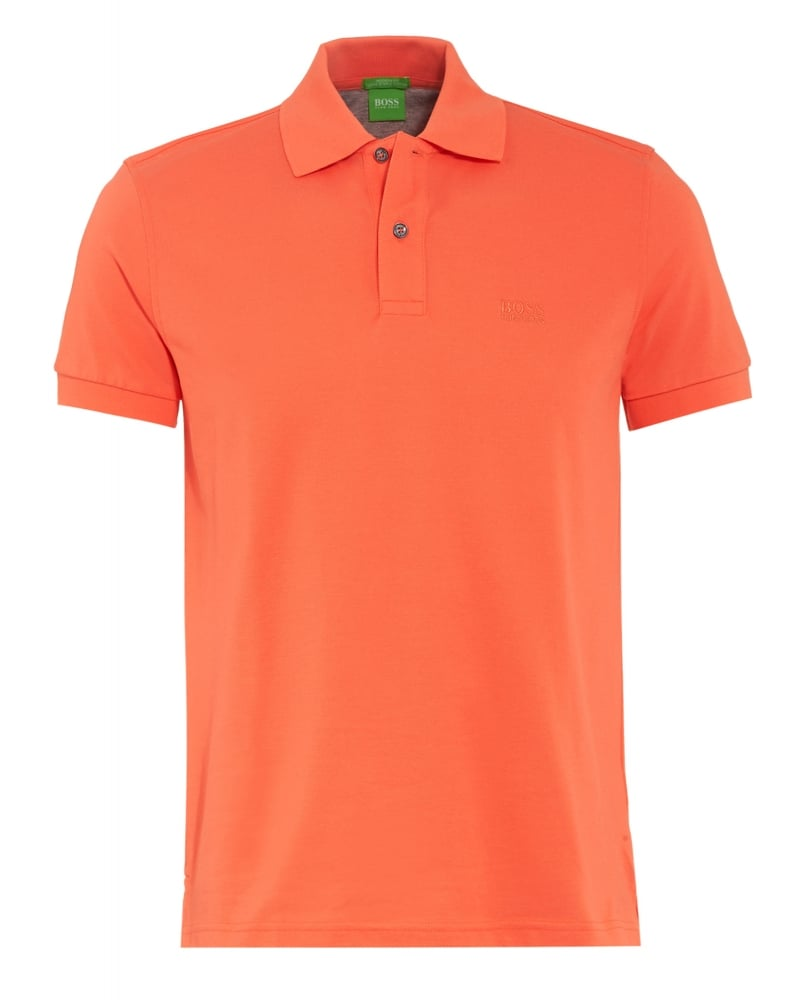T-Shirt: (47, 28, 768, 966)
